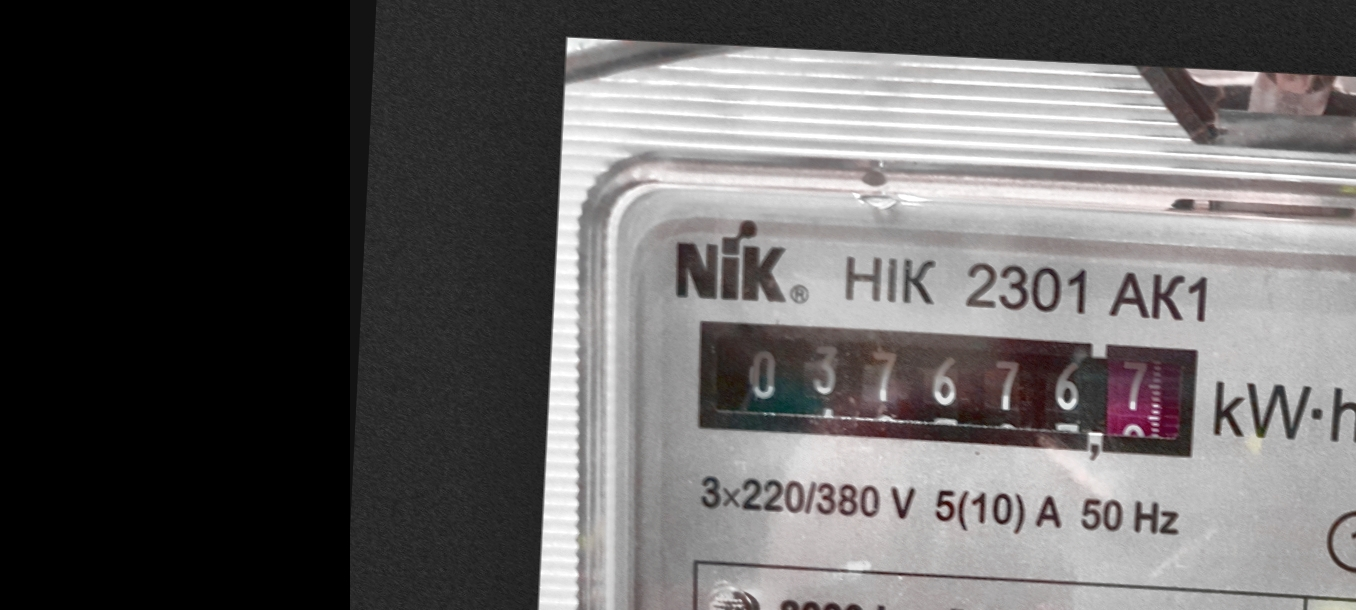0: (746, 345, 783, 402)
3: (810, 340, 840, 398)
6: (928, 352, 963, 407), (1052, 357, 1084, 413)
7: (990, 356, 1024, 416), (867, 347, 901, 405), (1120, 357, 1150, 414)
screen: (680, 304, 1215, 476)
